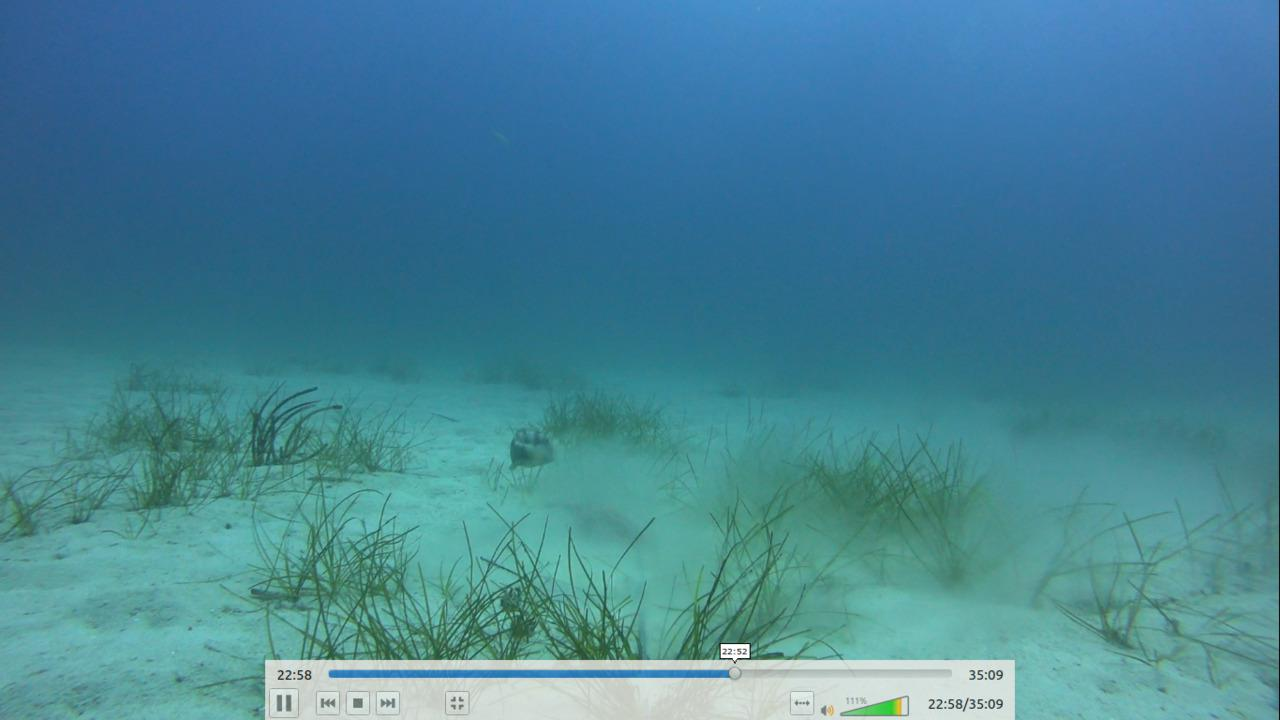raor: (504, 421, 564, 467)
